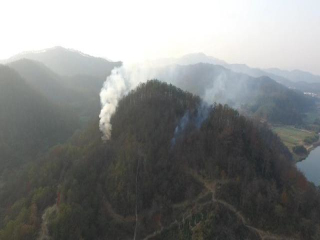smoke: (173, 75, 232, 141), (96, 63, 141, 141)
